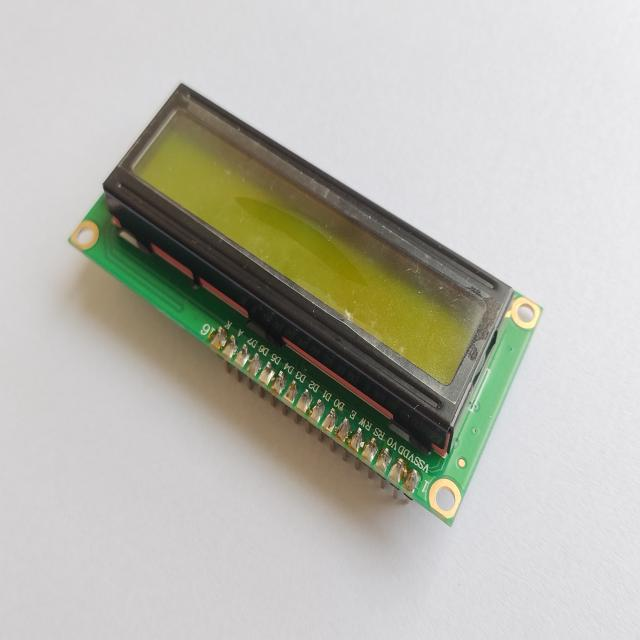lcd: (70, 81, 544, 528)
